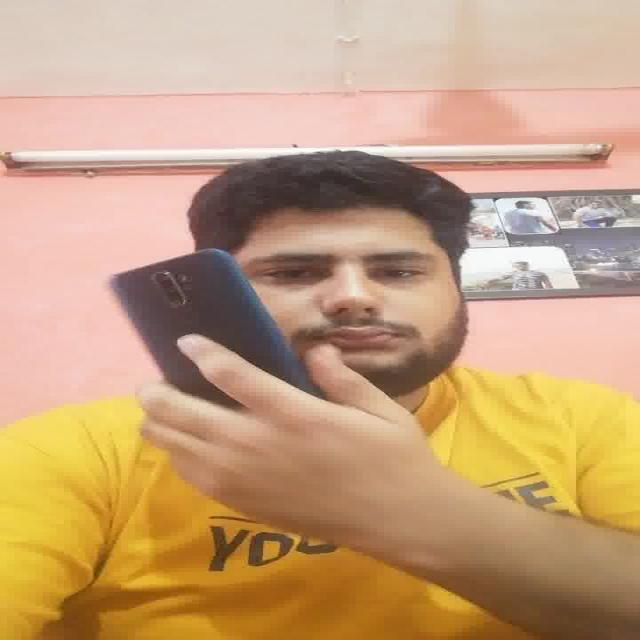Phone: (109, 244, 310, 406)
